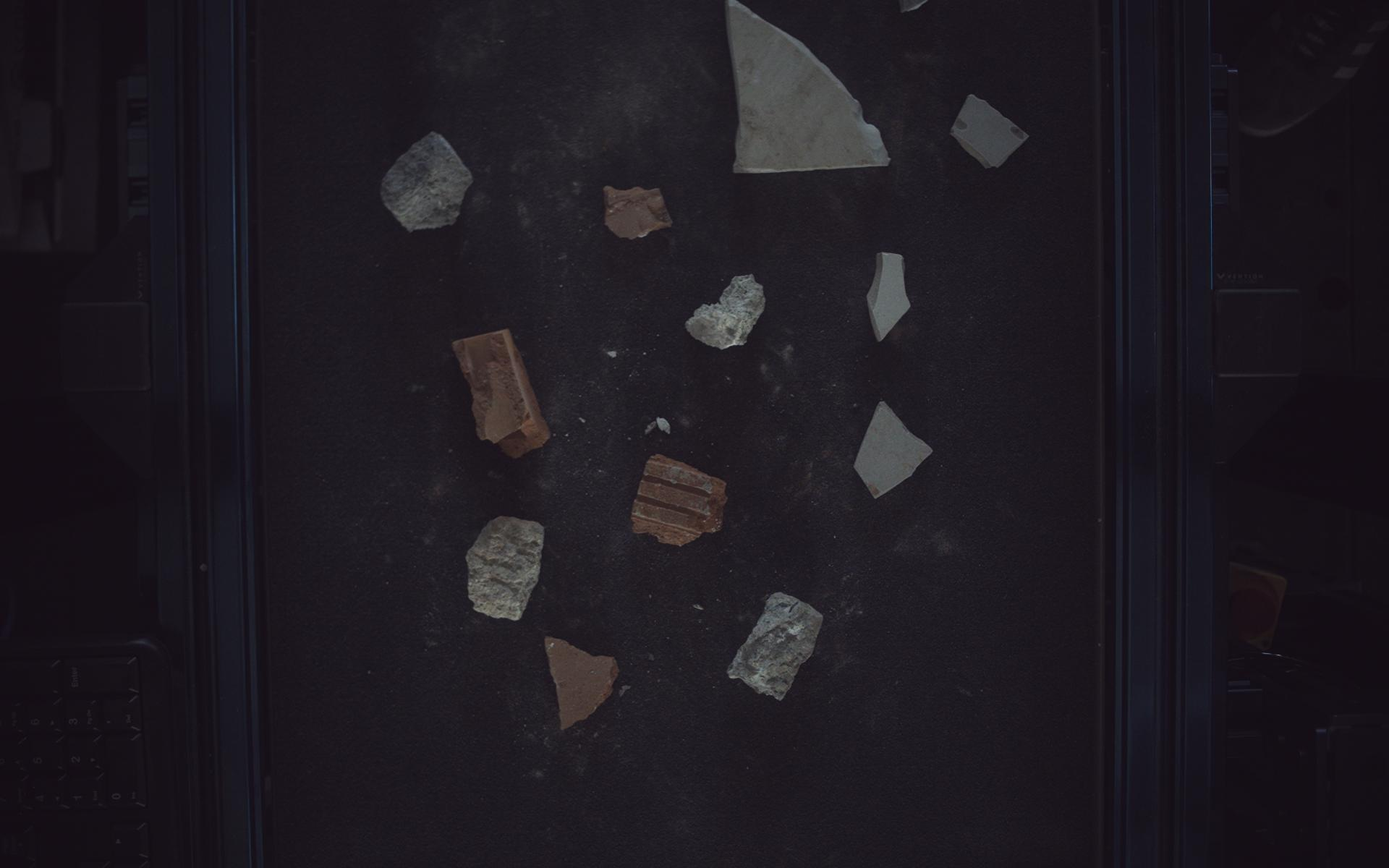brick: (453, 329, 550, 458), (634, 455, 728, 547), (545, 638, 620, 731), (606, 185, 673, 239)
concrete: (729, 593, 824, 702), (381, 131, 472, 231), (467, 516, 545, 621), (687, 273, 767, 349)
tile: (726, 1, 891, 172), (856, 401, 934, 498), (953, 93, 1031, 167), (869, 252, 912, 341)
